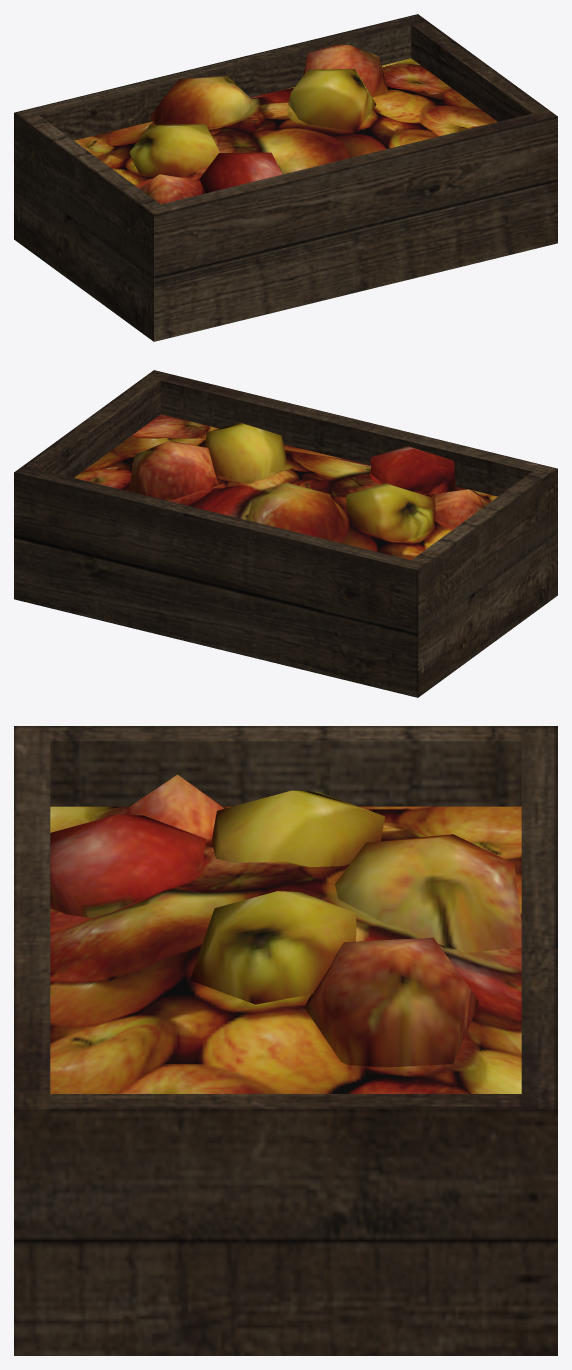
The model's file is Fruits1.fbx.
The picture shows the model from 3 angles, top to bottom: view 1: azimuth 30°, elevation 25°; view 2: azimuth 150°, elevation 25°; view 3: azimuth 270°, elevation 25°; orthographic projection. The views are drawn at different scales.
Visible parts, largest first — view 1: polySurface88; view 2: polySurface88; view 3: polySurface88.
Part boxes in pixels (x1=…): polySurface88: x1=14, y1=14, x2=557, y2=341; polySurface88: x1=14, y1=370, x2=557, y2=697; polySurface88: x1=14, y1=726, x2=557, y2=1355.
Bounding box in the file's own units: 3.91 × 1.48 × 2.34.
